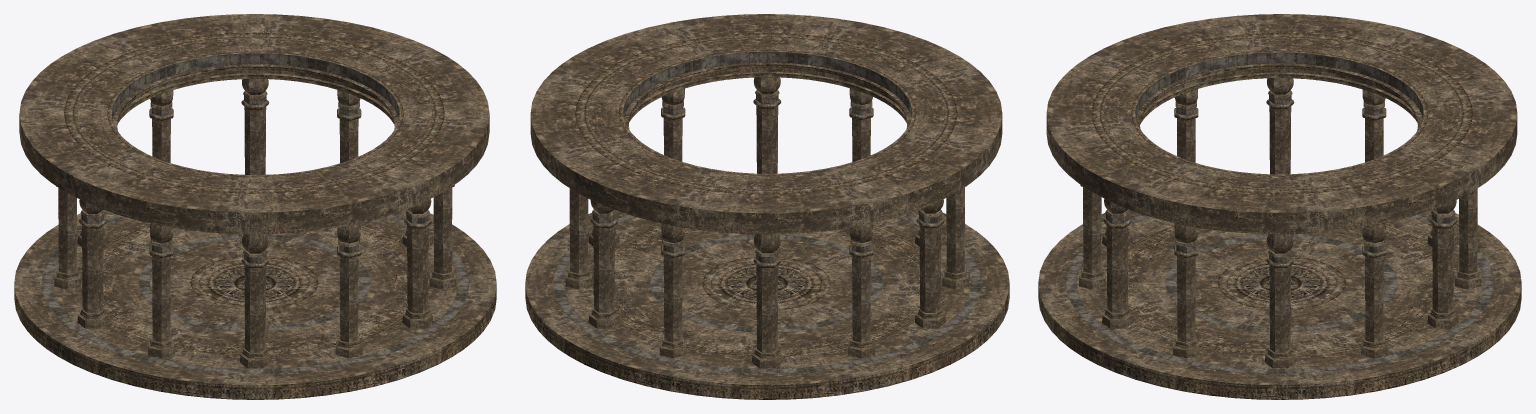
The model's file is materials_5_building_22.fbx.
3 views of the same model, side by side, from view 1: azimuth 30°, elevation 25°; view 2: azimuth 150°, elevation 25°; view 3: azimuth 270°, elevation 25° (orthographic).
Visible parts, largest first — view 1: materials_5_building_22; view 2: materials_5_building_22; view 3: materials_5_building_22.
Boxes of the visible parts, bbox=[...] form: materials_5_building_22: bbox=[14, 14, 496, 399]; materials_5_building_22: bbox=[525, 14, 1009, 399]; materials_5_building_22: bbox=[1038, 14, 1521, 399].
Size of the model in its own units: 1007 by 424 by 1007.
